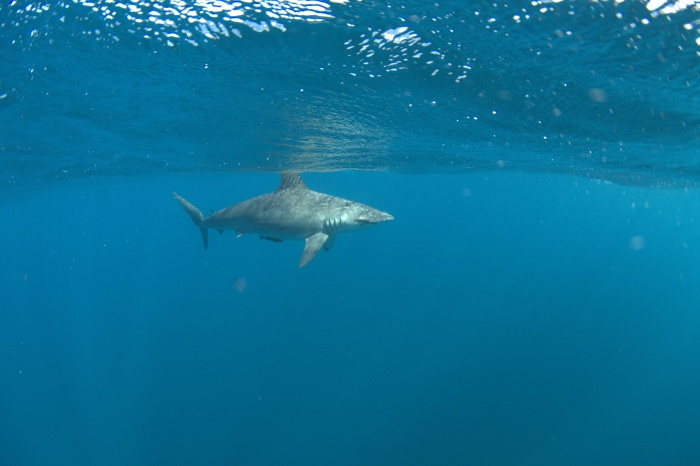Hammer: (49, 193, 472, 395)
